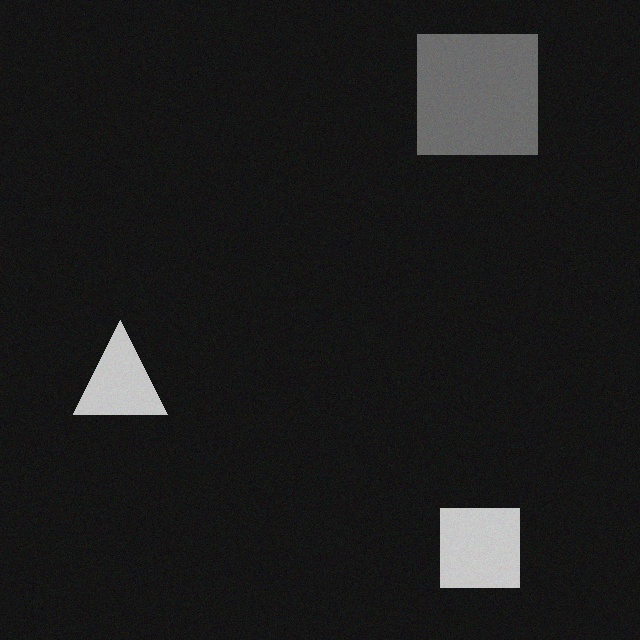square: (432, 22, 552, 142), (455, 496, 534, 575)
triangle: (88, 308, 182, 402)
